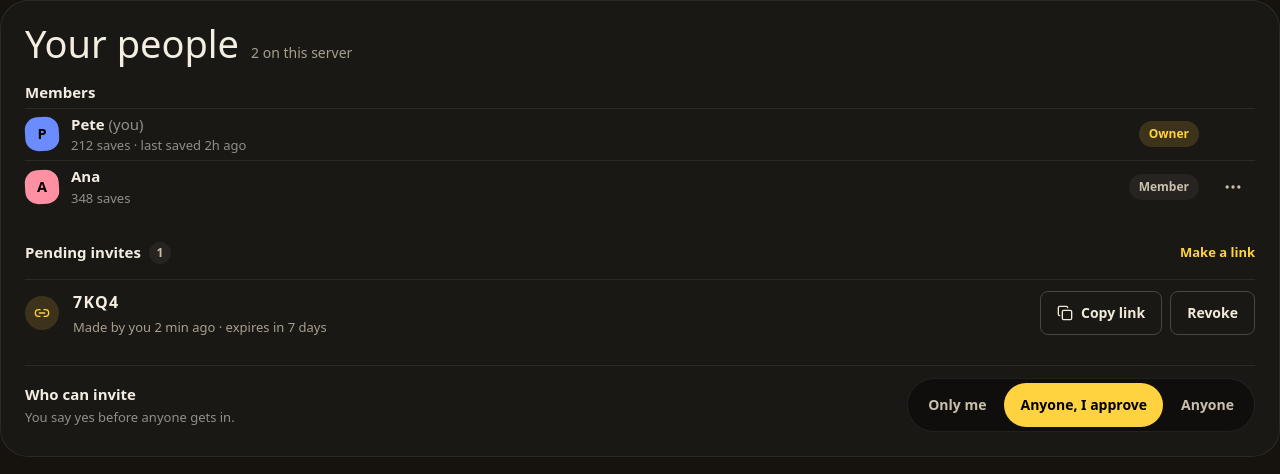
Your people › Copy link on an older invite asks first, then copies a fresh link
Click the button with aria-label "Copy link for invite 7KQ4".
click(1101, 313)  # box [1040,291,1162,335]
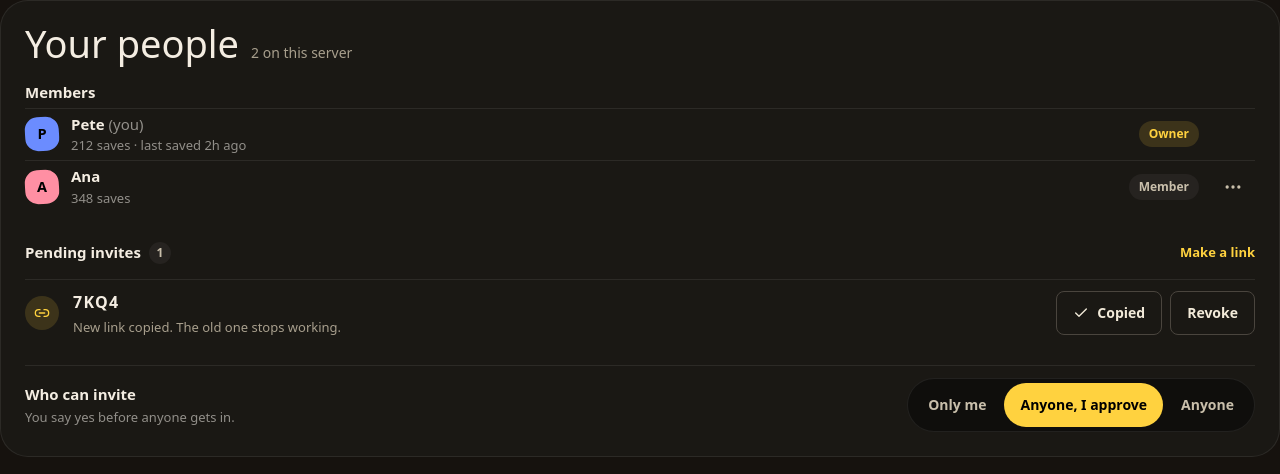
Expected: the text "New link copied. The old one stops working." is shown, [73,318,341,336]
